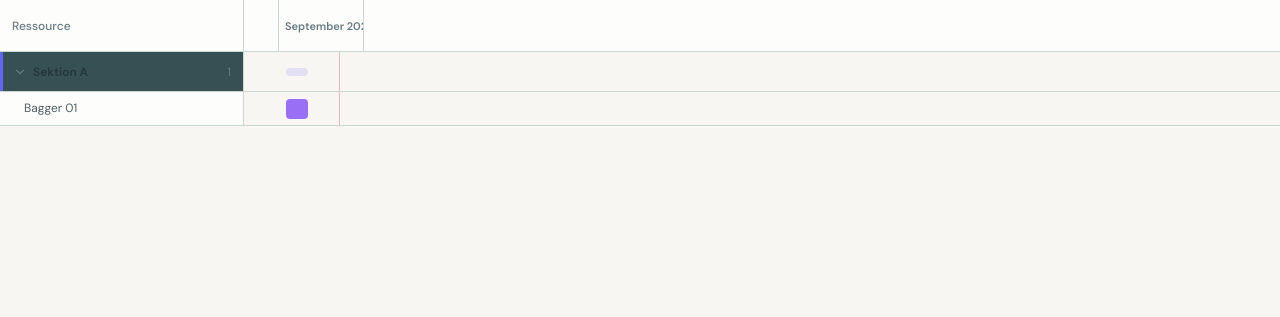
ResourceGantt — booking bar interaction › deselects when the same bar is clicked a second time
Click the element titled "Externer Auftrag": (297, 108) [286,98,308,118]
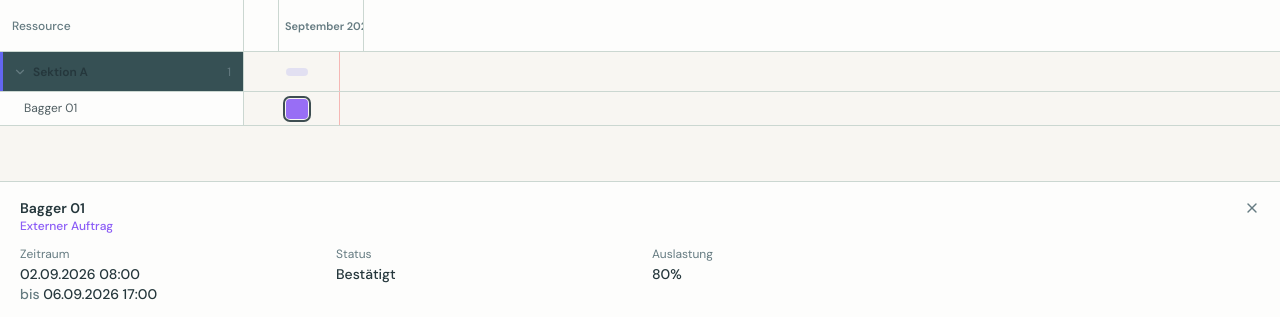
Click the element titled "Externer Auftrag": (297, 108) [286,98,308,118]
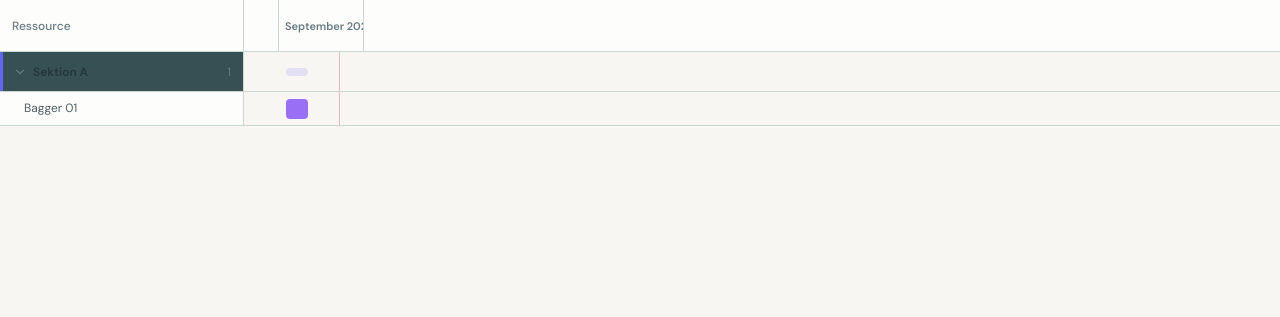
Expected: the text "Zeitraum" is gone
